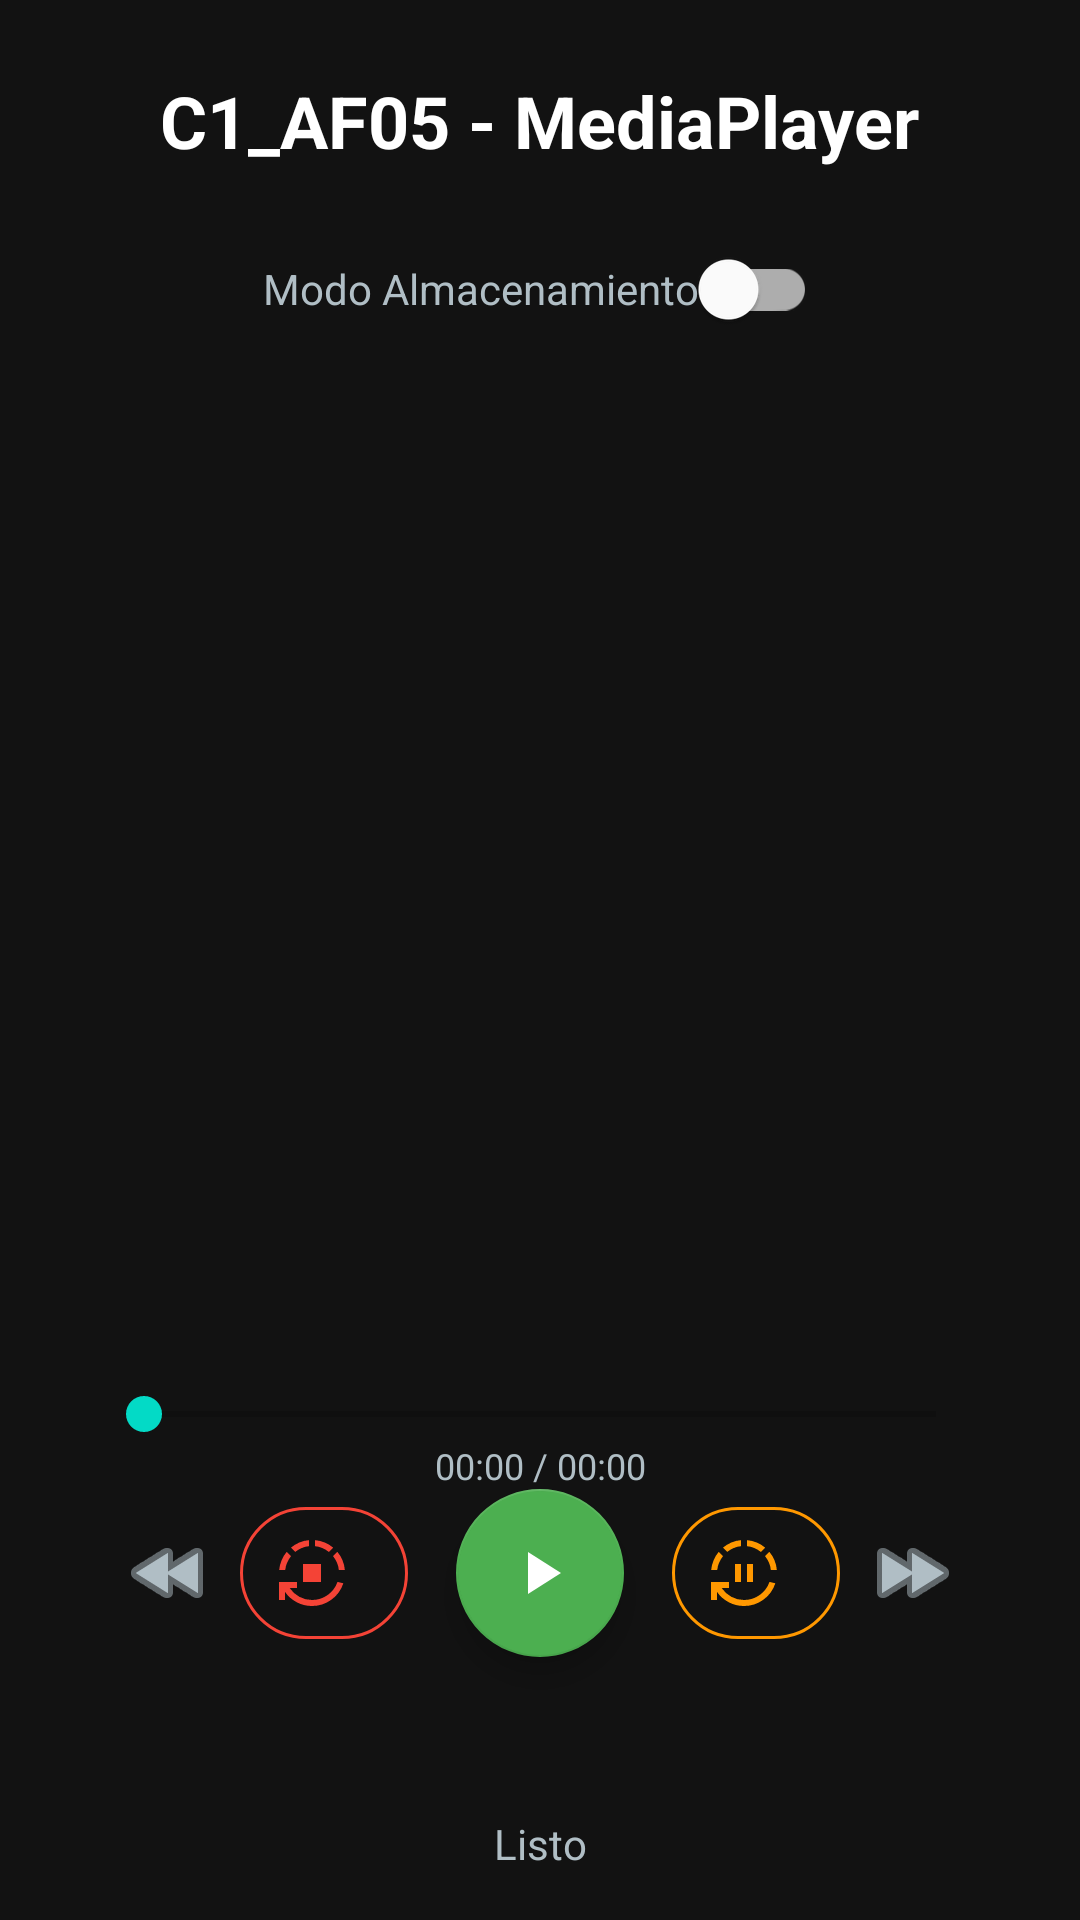

Icons on this 1080px×1920px Android screen, each with the point to tap as (x,y):
pause: (756,1573)
play: (540,1573)
rew: (167,1573)
stop: (324,1573)
